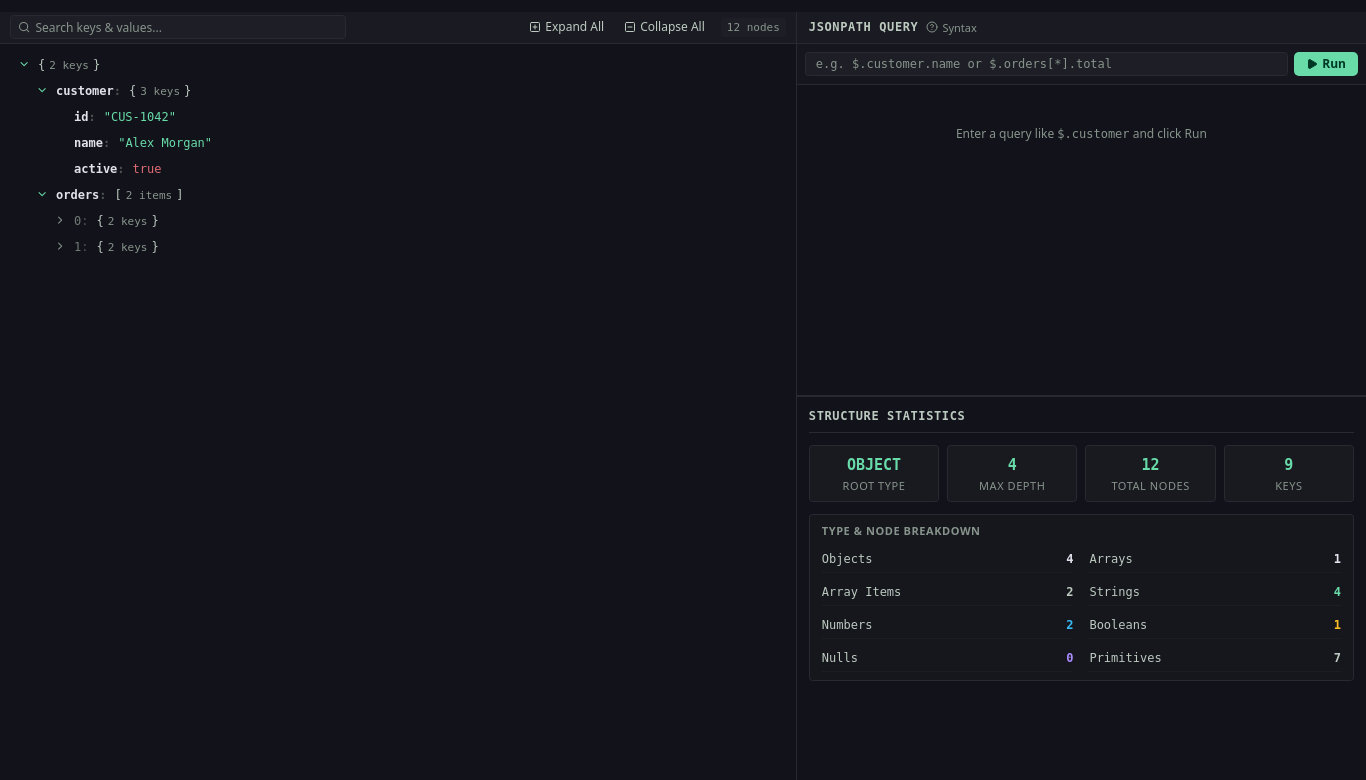
Test case: Inspector Component Suite › runs JSONPath query and displays formatted results
The width and height of the screenshot is (1366, 780).
In the field with placeholder "e.g. $.customer.name or $.orders[*].total": (1047, 64) [805, 52, 1288, 76], type "$.customer.name"
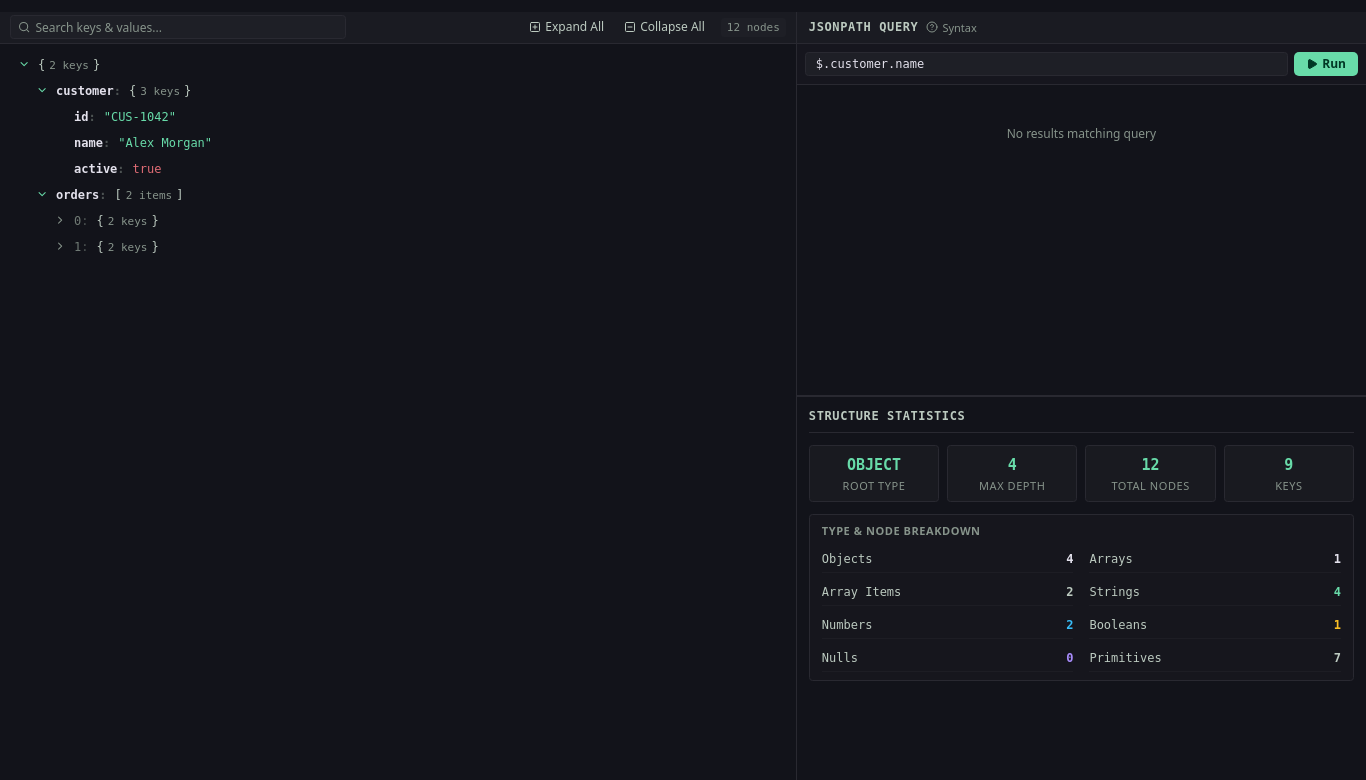
Click the button with aria-label "run jsonpath query": click(1326, 64) [1294, 52, 1358, 76]
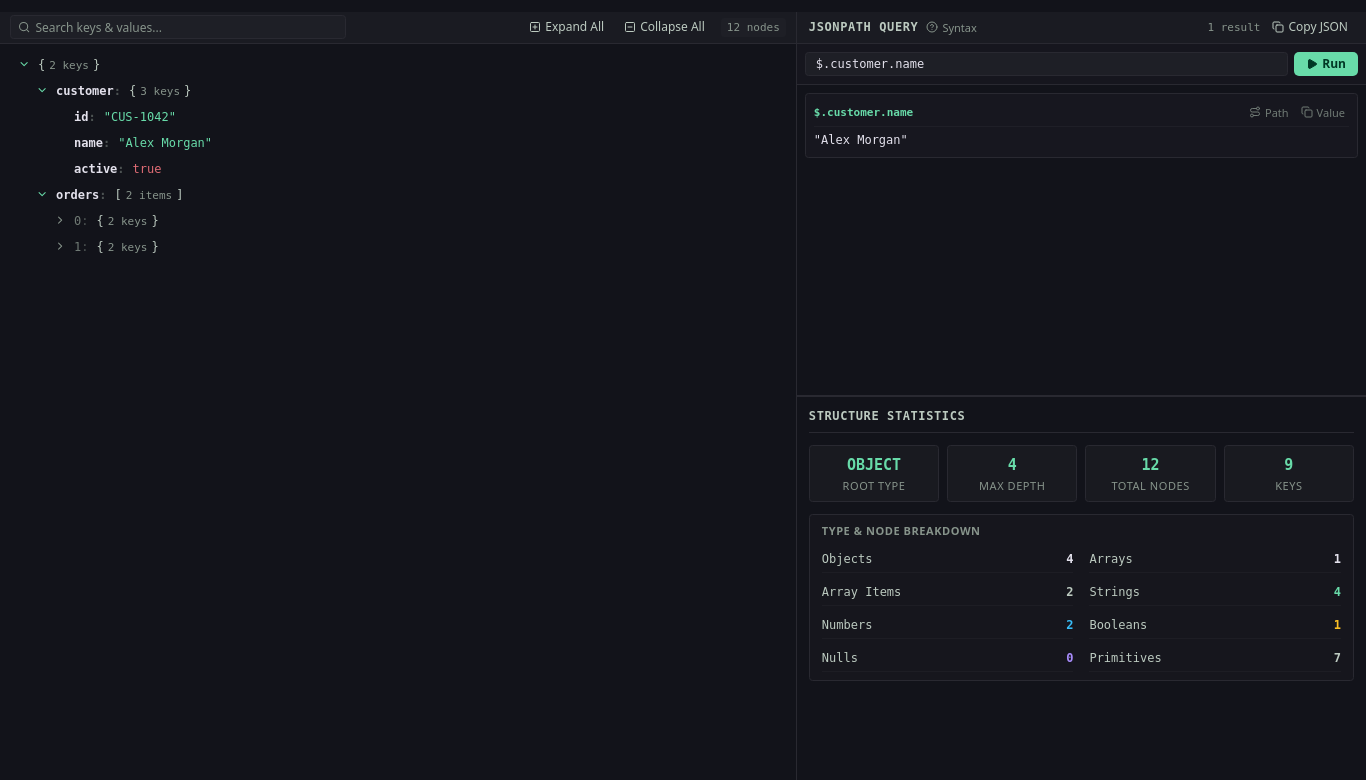
Expected: the text "1 result" is shown, [1207, 20, 1260, 35]
Expected: the text "$.customer.name" is shown, [814, 104, 913, 120]
